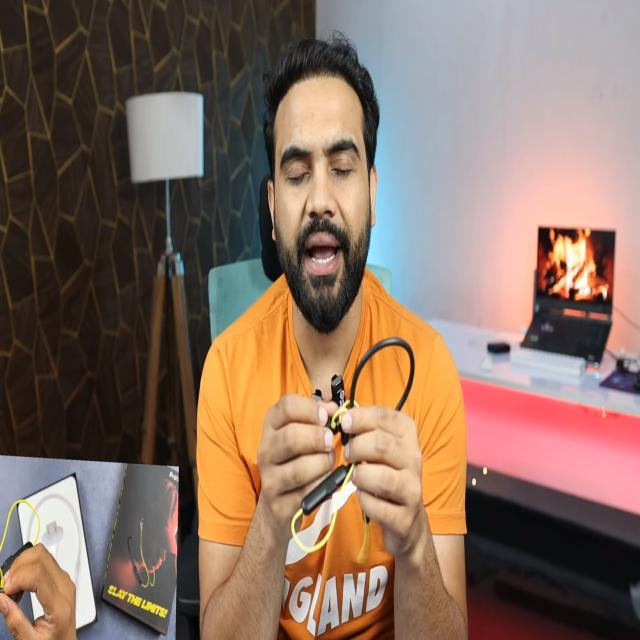Neckband: (291, 336, 415, 567)
